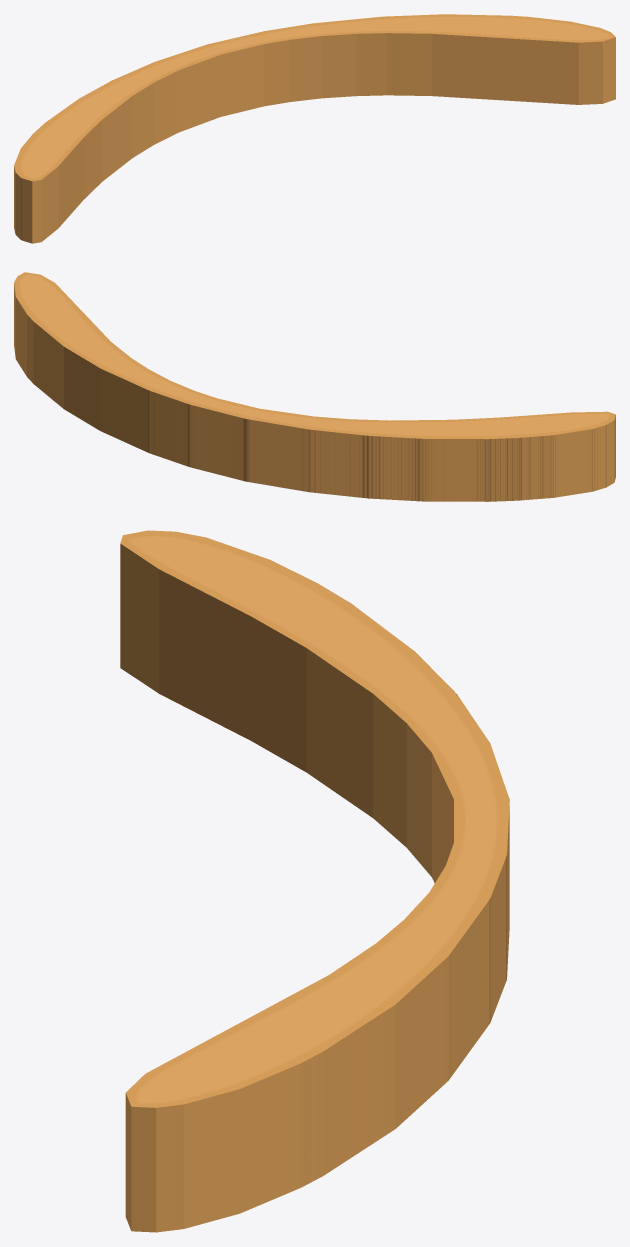
Rendered from golgi.gltf.
The picture shows the model from 3 angles, top to bottom: view 1: azimuth 30°, elevation 25°; view 2: azimuth 150°, elevation 25°; view 3: azimuth 270°, elevation 25°; orthographic projection. The views are drawn at different scales.
Size of the model in its own units: 0.1247 by 0.0125 by 0.0356.
1 material, 1 textured.
